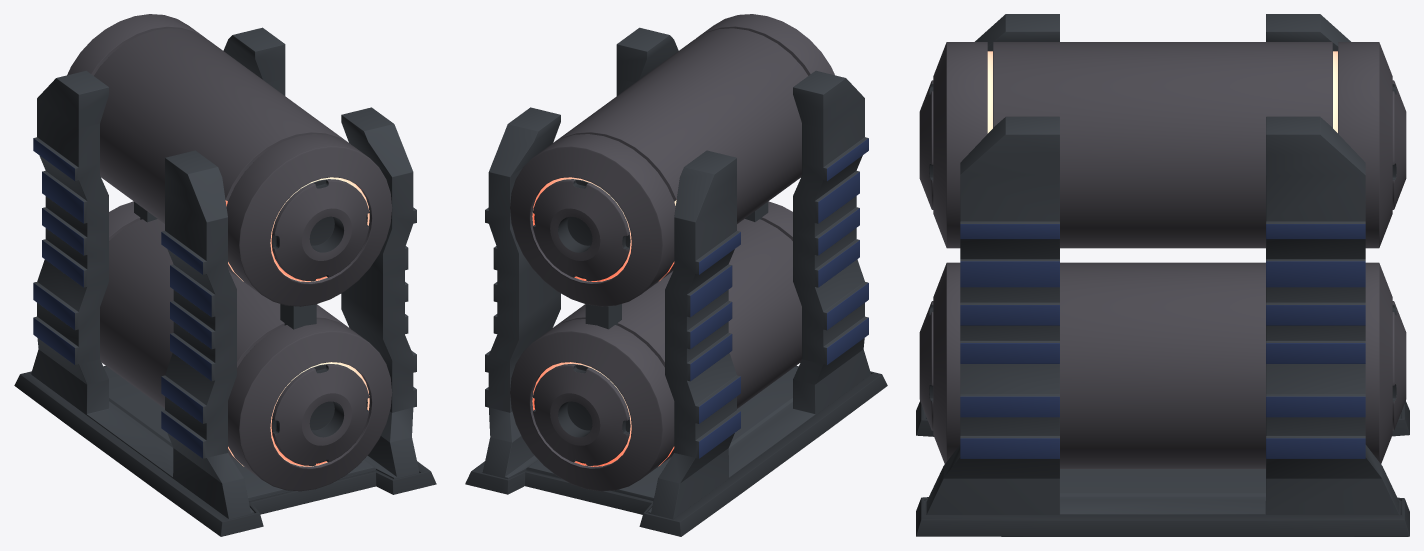
The model's file is Tank_Double_03.fbx.
3 views of the same model, side by side, from view 1: azimuth 30°, elevation 25°; view 2: azimuth 150°, elevation 25°; view 3: azimuth 270°, elevation 25° (orthographic). The views are drawn at different scales.
Parts seen in each view (by area): view 1: Cube.011; view 2: Cube.011; view 3: Cube.011.
Part boxes in pixels (x1=…): Cube.011: x1=14, y1=14, x2=436, y2=536; Cube.011: x1=465, y1=14, x2=887, y2=536; Cube.011: x1=916, y1=14, x2=1409, y2=536.
Bounding box in the file's own units: 332 × 516 × 547.
